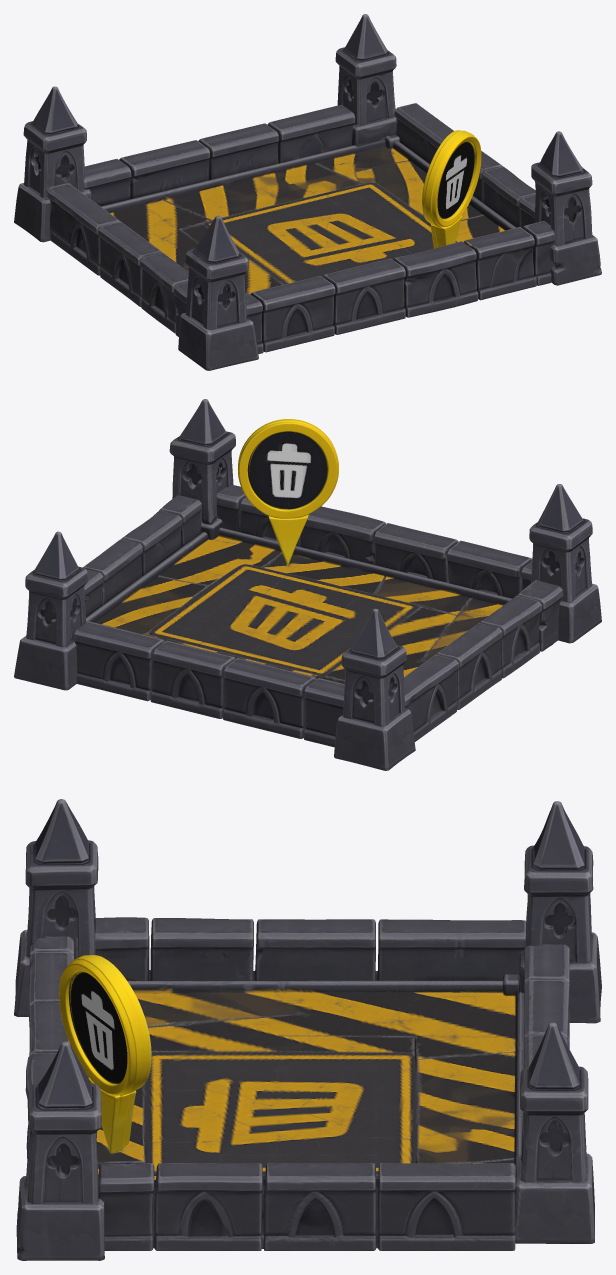
The model's file is PR_DisposalZonePad.fbx.
The picture shows the model from 3 angles, top to bottom: view 1: azimuth 30°, elevation 25°; view 2: azimuth 150°, elevation 25°; view 3: azimuth 270°, elevation 25°; orthographic projection. The views are drawn at different scales.
Visible parts, largest first — view 1: Mesh_0; view 2: Mesh_0; view 3: Mesh_0.
Boxes of the visible parts, left/top/right/bottom form: Mesh_0: left=14, top=14, right=601, bottom=370; Mesh_0: left=14, top=399, right=601, bottom=770; Mesh_0: left=14, top=799, right=601, bottom=1260.
Size of the model in its own units: 190 by 68.02 by 168.
Materials: 1 (1 with a texture image).
